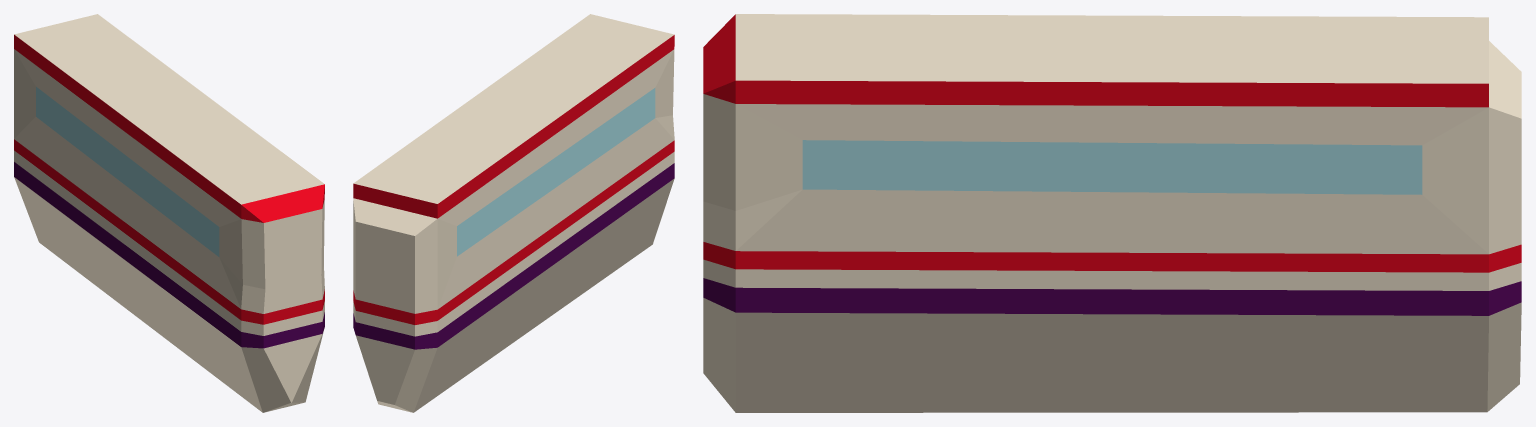
The model's file is vagon.glb.
The picture shows the model from 3 angles, left to right: view 1: azimuth 30°, elevation 25°; view 2: azimuth 150°, elevation 25°; view 3: azimuth 270°, elevation 25°; orthographic projection. The views are drawn at different scales.
Visible parts, largest first — view 1: vagon; view 2: vagon; view 3: vagon.
Boxes of the visible parts, <box> form: vagon: <box>14,14,324,412</box>; vagon: <box>353,14,674,412</box>; vagon: <box>703,14,1521,412</box>.
Size of the model in its own units: 4.52 by 10.21 by 21.77.
